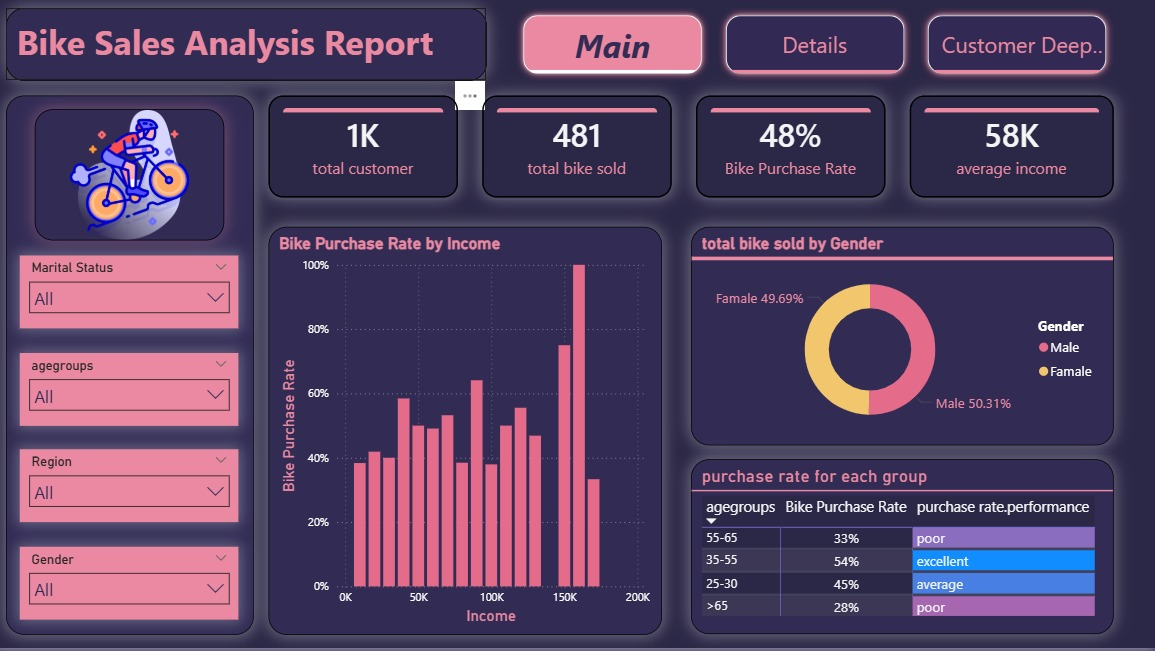

Layout of this report page (visuals, bound fields, positions):
{"tool":"powerbi","page":{"name":"Main","canvas":[1280,720],"ordinal":0},"visuals":[{"type":"shape","box":[16,112,272,592],"z":0},{"type":"slicer","fields":{"Values":["Table1.Region"]},"box":[32,501.3,240,80],"z":1000},{"type":"slicer","fields":{"Values":["Table1.agegroups"]},"box":[32,394.7,240,80],"z":2000},{"type":"slicer","fields":{"Values":["Table1.Marital Status"]},"box":[32,288,240,80],"z":3000},{"type":"textbox","box":[16,16,528,80],"z":5000},{"type":"donutChart","fields":{"Category":["Table1.Gender"],"Y":["Table1.total bike sold"]},"box":[768,256,464,240],"z":6000},{"type":"clusteredColumnChart","fields":{"Category":["Table1.Income"],"Y":["Table1.Bike Purchase Rate"]},"box":[304,256,432,448],"z":7000},{"type":"pivotTable","title":"purchase rate for each group","fields":{"Rows":["Table1.agegroups"],"Values":["Table1.Bike Purchase Rate","Table1.purchase rate.performance"]},"box":[768,512,464,192],"z":8000},{"type":"slicer","fields":{"Values":["Table1.Gender"]},"box":[32,608,240,80],"z":9000},{"type":"cardVisual","fields":{"Data":["Table1.total customer"]},"box":[304,112,208,112],"z":10000},{"type":"cardVisual","fields":{"Data":["Table1.total bike sold"]},"box":[538.7,112,208,112],"z":11000},{"type":"cardVisual","fields":{"Data":["Table1.Bike Purchase Rate"]},"box":[773.3,112,208,112],"z":12000},{"type":"cardVisual","fields":{"Data":["Table1.average income"]},"box":[1008,112,224,112],"z":13000},{"type":"pageNavigator","box":[576,16,656,80],"z":13001},{"type":"image","box":[48,128,208,144],"z":13002}]}

Visuals, with their boxes in screenshot pixels (x1, y1, x2, y2), scaled from the page's 1280x720 canvas onto the 1155x651 screenshot:
shape: pyautogui.locateOnScreen(14, 101, 260, 637)
slicer - Table1.Region: pyautogui.locateOnScreen(29, 453, 245, 526)
slicer - Table1.agegroups: pyautogui.locateOnScreen(29, 357, 245, 429)
slicer - Table1.Marital Status: pyautogui.locateOnScreen(29, 260, 245, 333)
textbox: pyautogui.locateOnScreen(14, 14, 491, 87)
donutChart - Table1.Gender x Table1.total bike sold: pyautogui.locateOnScreen(693, 231, 1112, 448)
clusteredColumnChart - Table1.Income x Table1.Bike Purchase Rate: pyautogui.locateOnScreen(274, 231, 664, 637)
"purchase rate for each group" pivotTable: pyautogui.locateOnScreen(693, 463, 1112, 637)
slicer - Table1.Gender: pyautogui.locateOnScreen(29, 550, 245, 622)
cardVisual - Table1.total customer: pyautogui.locateOnScreen(274, 101, 462, 203)
cardVisual - Table1.total bike sold: pyautogui.locateOnScreen(486, 101, 674, 203)
cardVisual - Table1.Bike Purchase Rate: pyautogui.locateOnScreen(698, 101, 885, 203)
cardVisual - Table1.average income: pyautogui.locateOnScreen(910, 101, 1112, 203)
pageNavigator: pyautogui.locateOnScreen(520, 14, 1112, 87)
image: pyautogui.locateOnScreen(43, 116, 231, 246)
